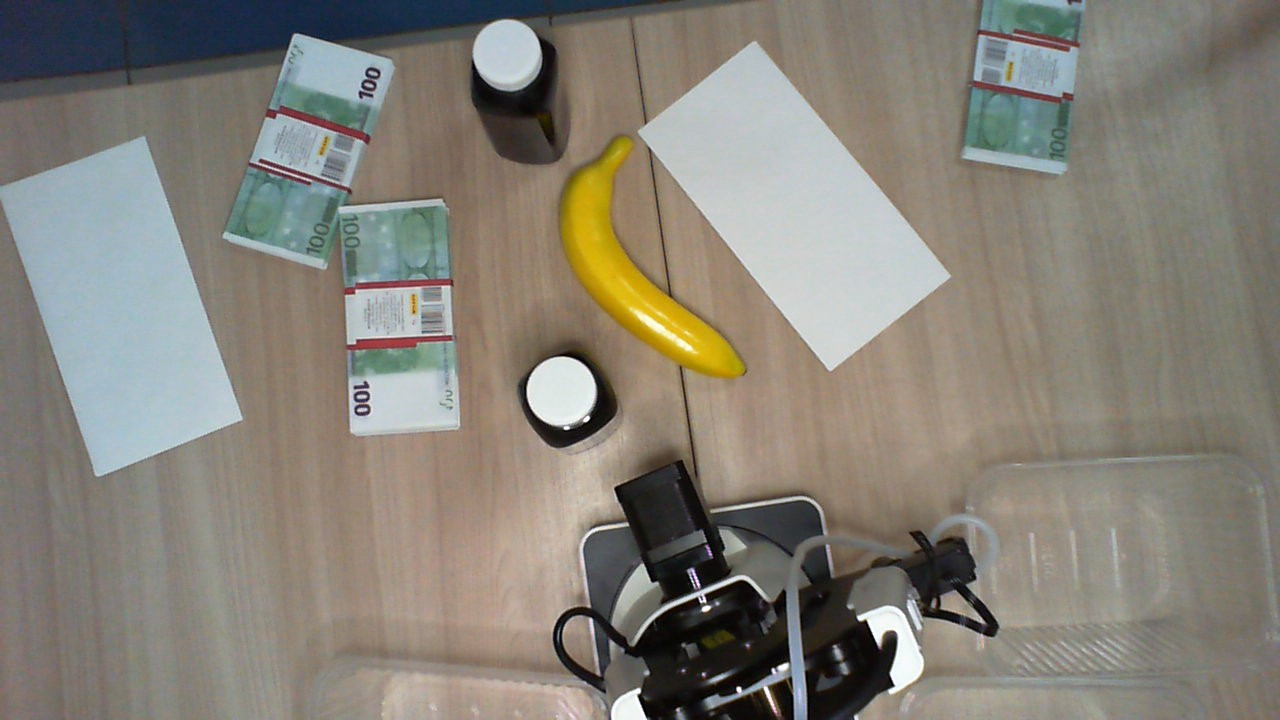banana: (559, 134, 749, 382)
bottle: (518, 349, 615, 450), (471, 20, 562, 116)
convert: (637, 41, 951, 374), (1, 128, 244, 481)
money: (224, 34, 397, 267), (339, 197, 461, 437), (953, 1, 1088, 172)
